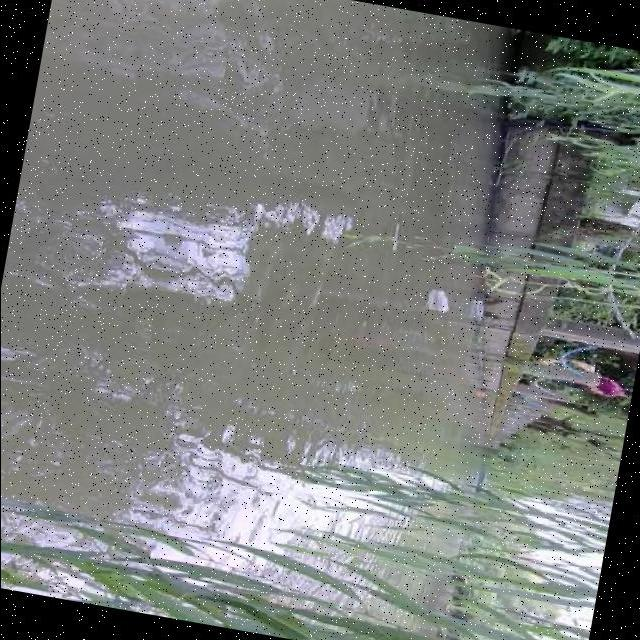Bottle: (467, 290, 488, 326)
Waste: (422, 286, 454, 316)
